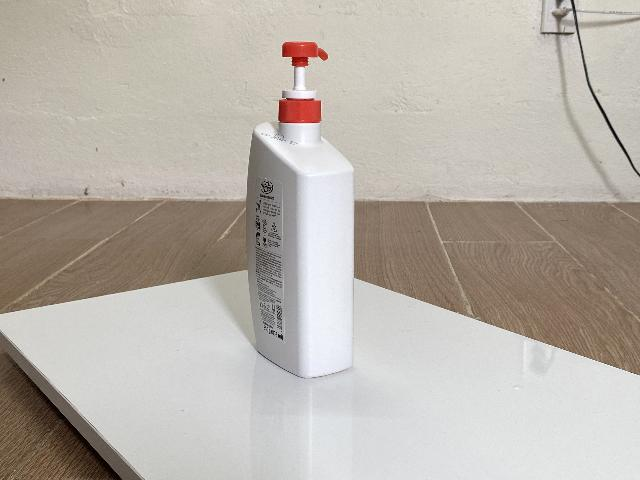life-buoy: (245, 41, 355, 380)
